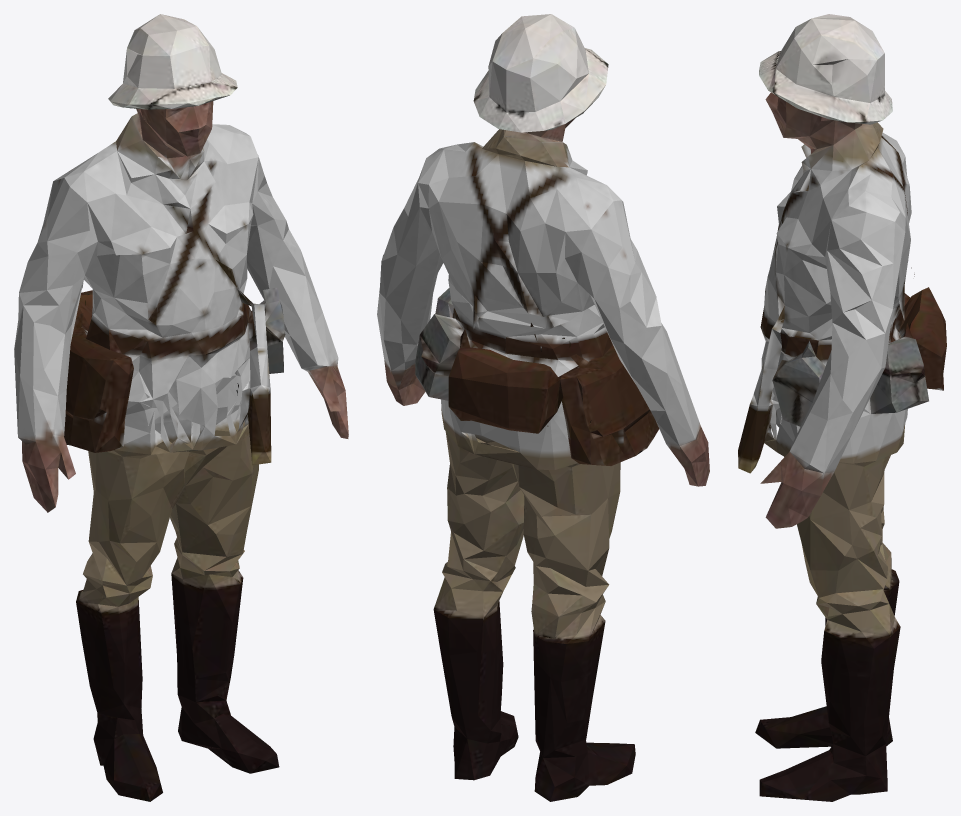
Rendered from realistic-cc0.c918d936e84f.explorer.glb.
3 renders of one model, left to right at view 1: azimuth 30°, elevation 25°; view 2: azimuth 150°, elevation 25°; view 3: azimuth 270°, elevation 25°, orthographic.
Parts seen in each view (by area): view 1: explorer; view 2: explorer; view 3: explorer.
Boxes of the visible parts, x1=… form: explorer: x1=14, y1=14, x2=348, y2=801; explorer: x1=377, y1=14, x2=709, y2=801; explorer: x1=738, y1=14, x2=946, y2=801.
Bounding box in the file's own units: 0.7909 × 1.8 × 0.4557.
2 materials, 2 textured.
